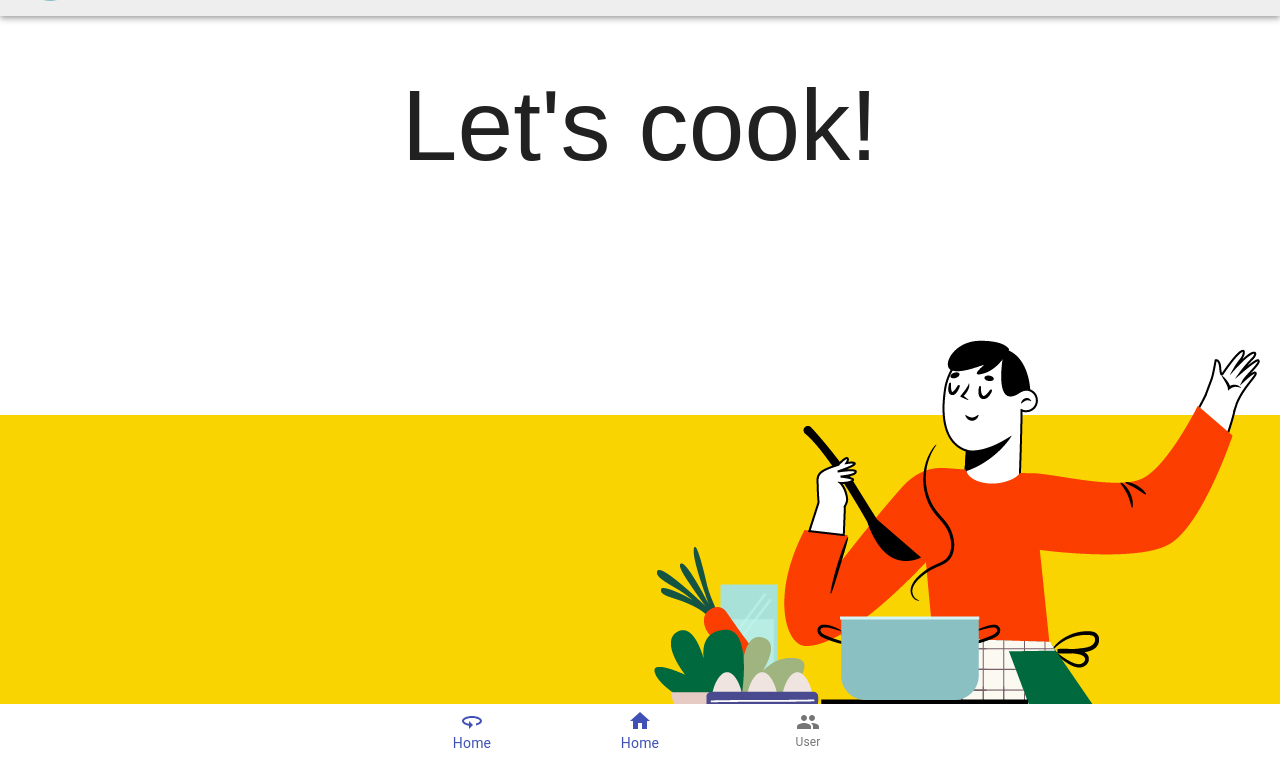
Test: getStarted page › button navigates correctly
(page scrolled)
Click the button with test id "bottomNavAction2" at (640, 730), box [621,709,659,751]
(page scrolled)
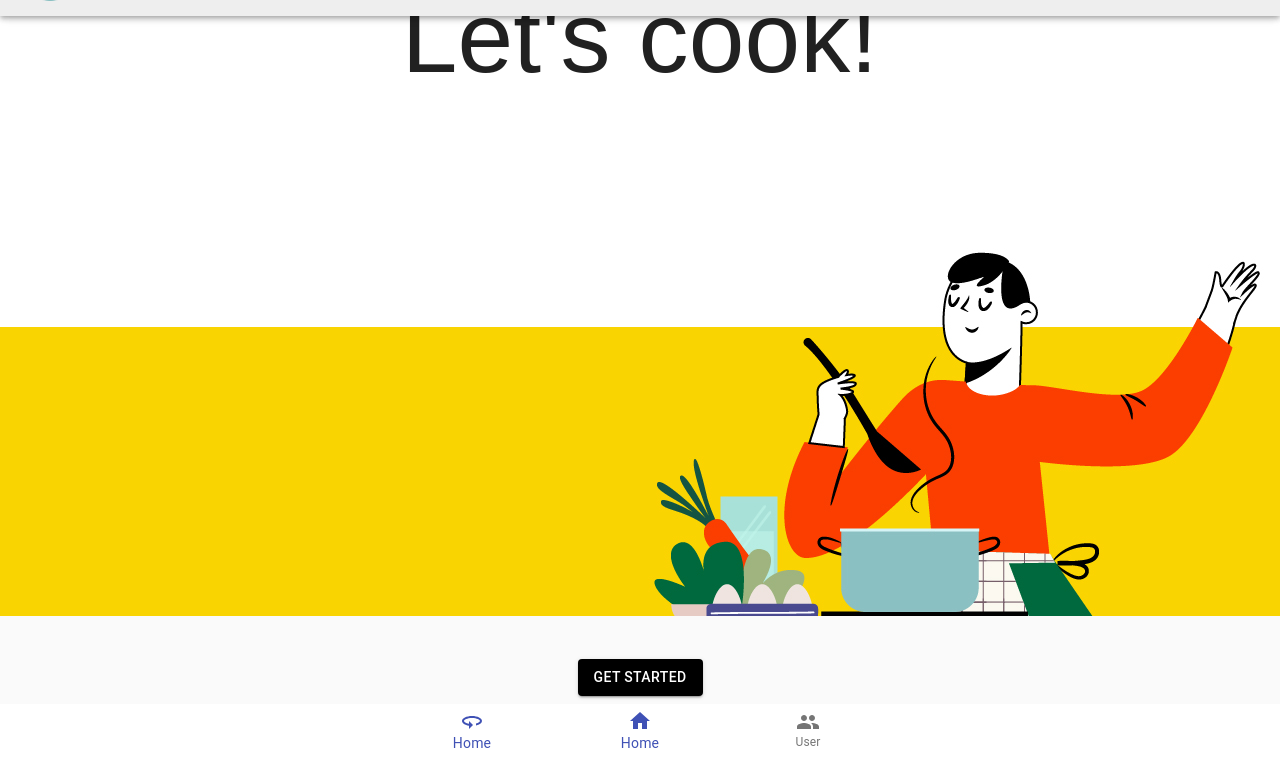
Now the button with test id "getStartedButton" is shown
Click the button with test id "getStartedButton" at (640, 678), box [578,659,702,696]
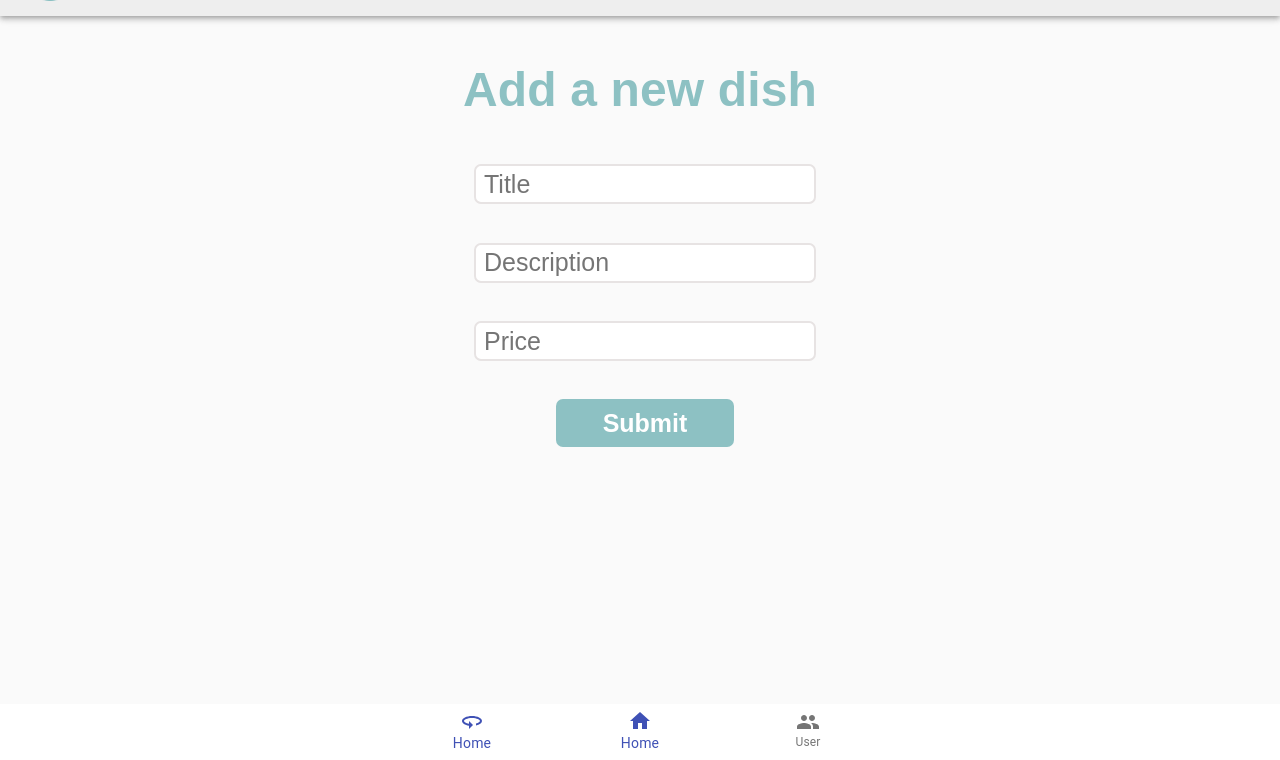
Now the form with test id "dishForm" is shown, box [463,16,817,486]
